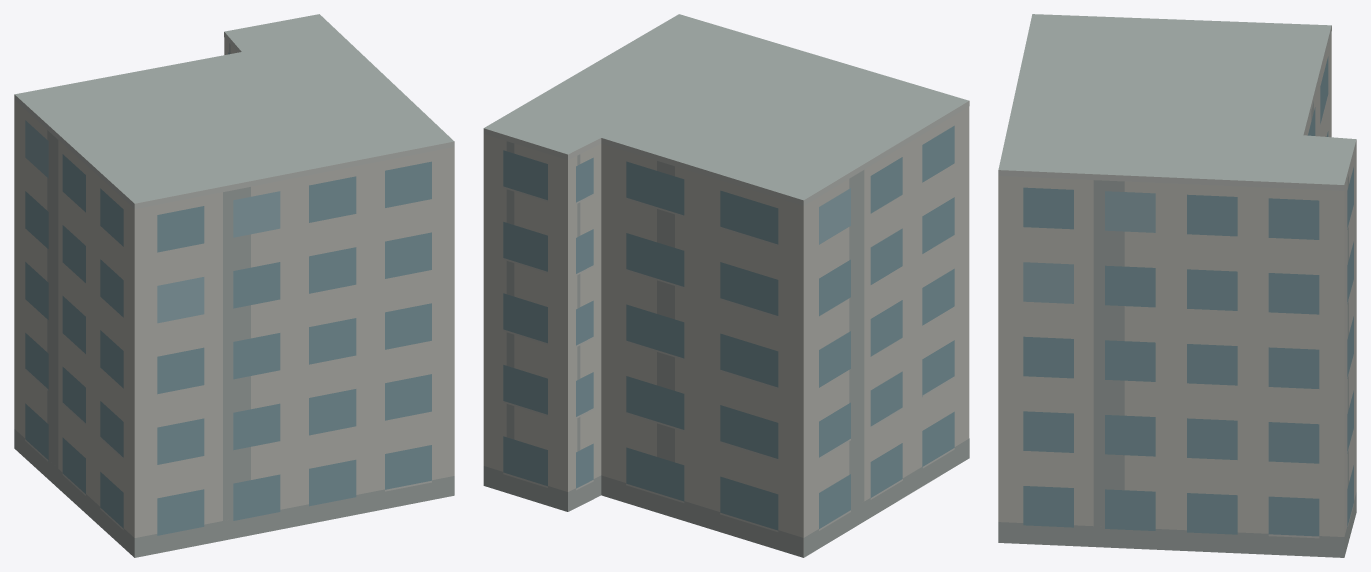
File: residential-f0756545-869b-4c0f-9b8f-2f45e3387f71.glb
3 views of the same model, side by side, from view 1: azimuth 30°, elevation 25°; view 2: azimuth 150°, elevation 25°; view 3: azimuth 270°, elevation 25° (orthographic). The views are drawn at different scales.
Parts seen in each view (by area): view 1: residential-f0756545-869b-4c0f-9b8f-2f45e3387f71.tmp; view 2: residential-f0756545-869b-4c0f-9b8f-2f45e3387f71.tmp; view 3: residential-f0756545-869b-4c0f-9b8f-2f45e3387f71.tmp.
Part boxes in pixels (box(x1,y1,x2,y2)): residential-f0756545-869b-4c0f-9b8f-2f45e3387f71.tmp: box(14, 14, 454, 557); residential-f0756545-869b-4c0f-9b8f-2f45e3387f71.tmp: box(483, 14, 969, 557); residential-f0756545-869b-4c0f-9b8f-2f45e3387f71.tmp: box(998, 14, 1356, 557).
Size of the model in its own units: 15.02 by 15.25 by 13.29.
